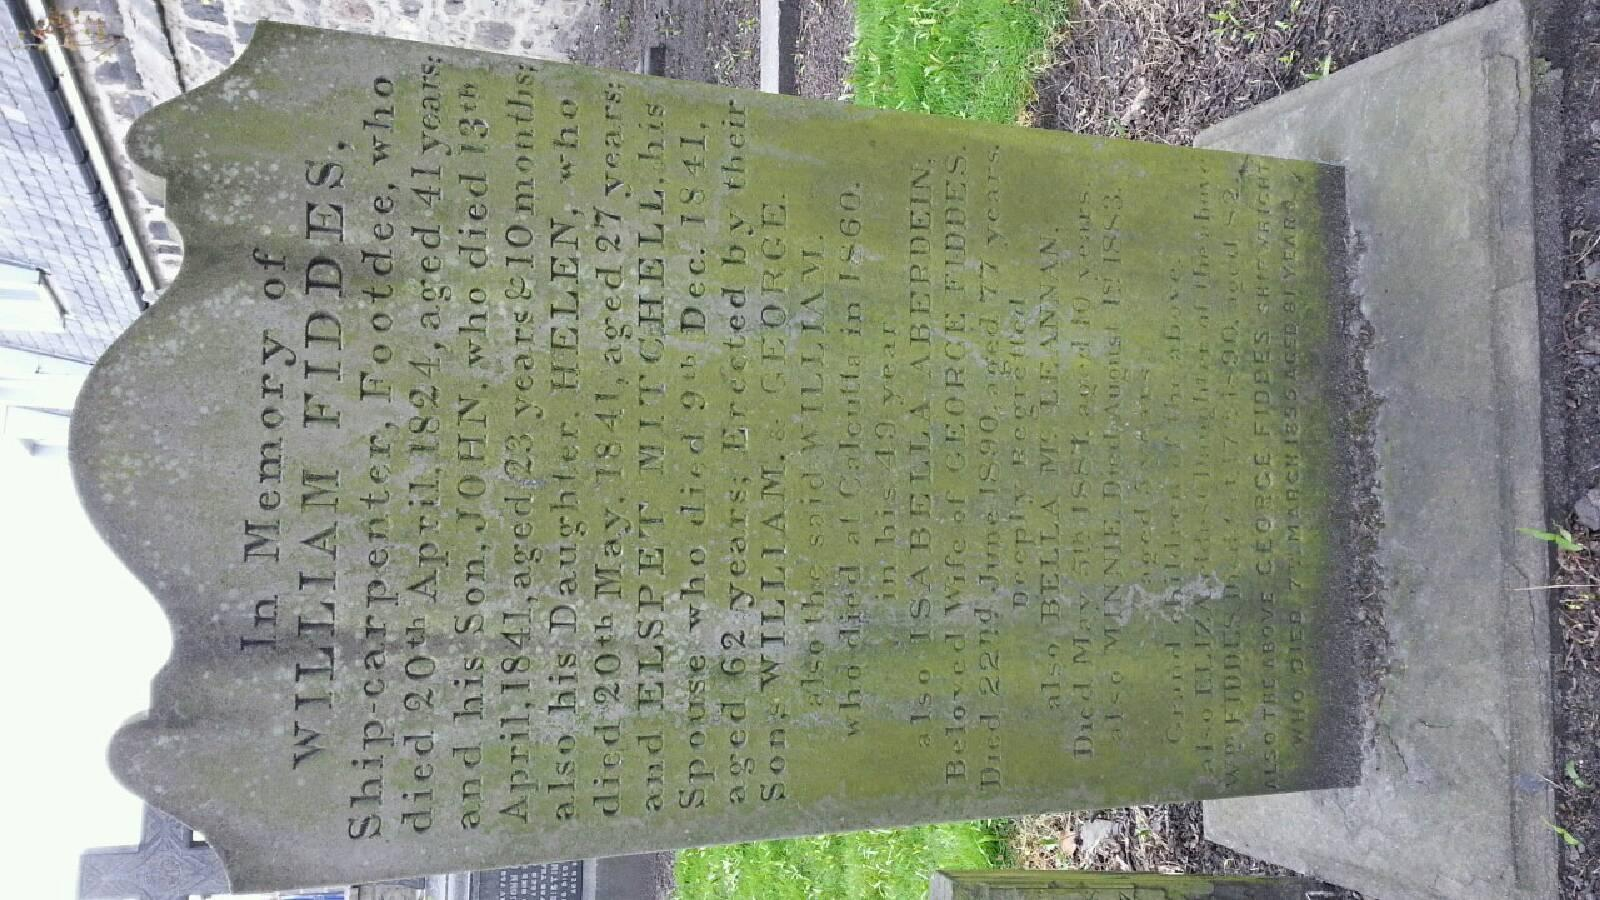upright: (35, 4, 1584, 890)
